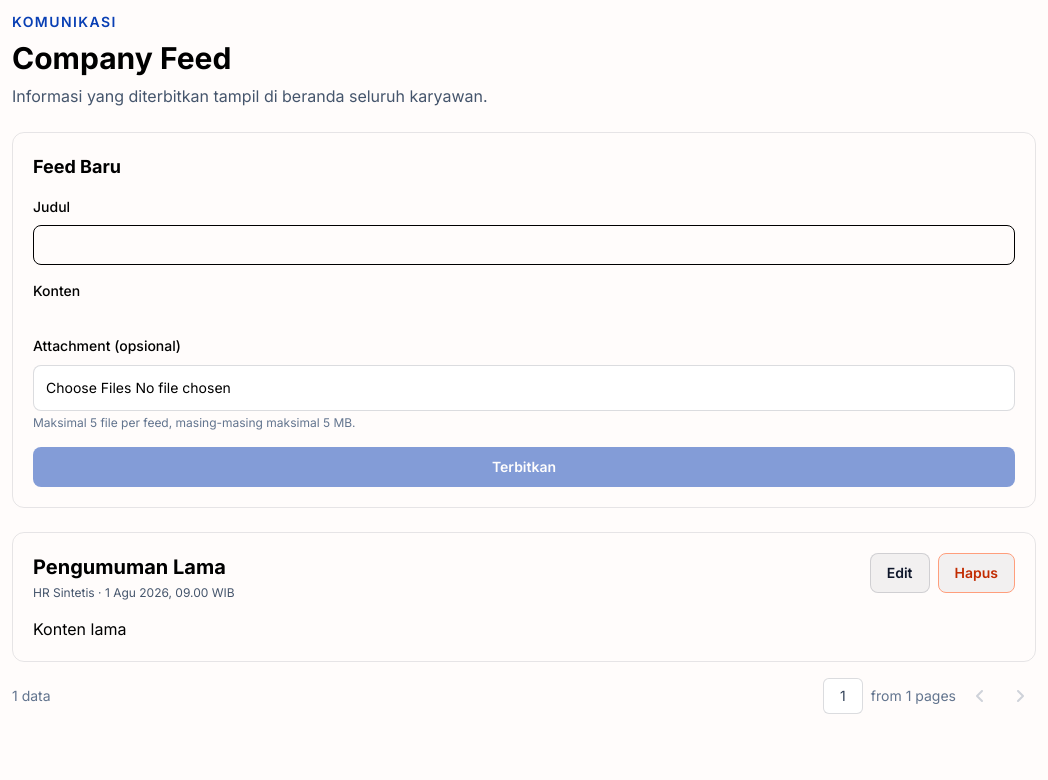
CompanyFeedPage › switches the form into edit mode, prefilled, and submits an update
The image size is (1048, 780).
Expected: the heading "Feed Baru" is shown, 33,153 -> 121,181
Click the button "Edit" at (900, 573), box 870,553 -> 930,593
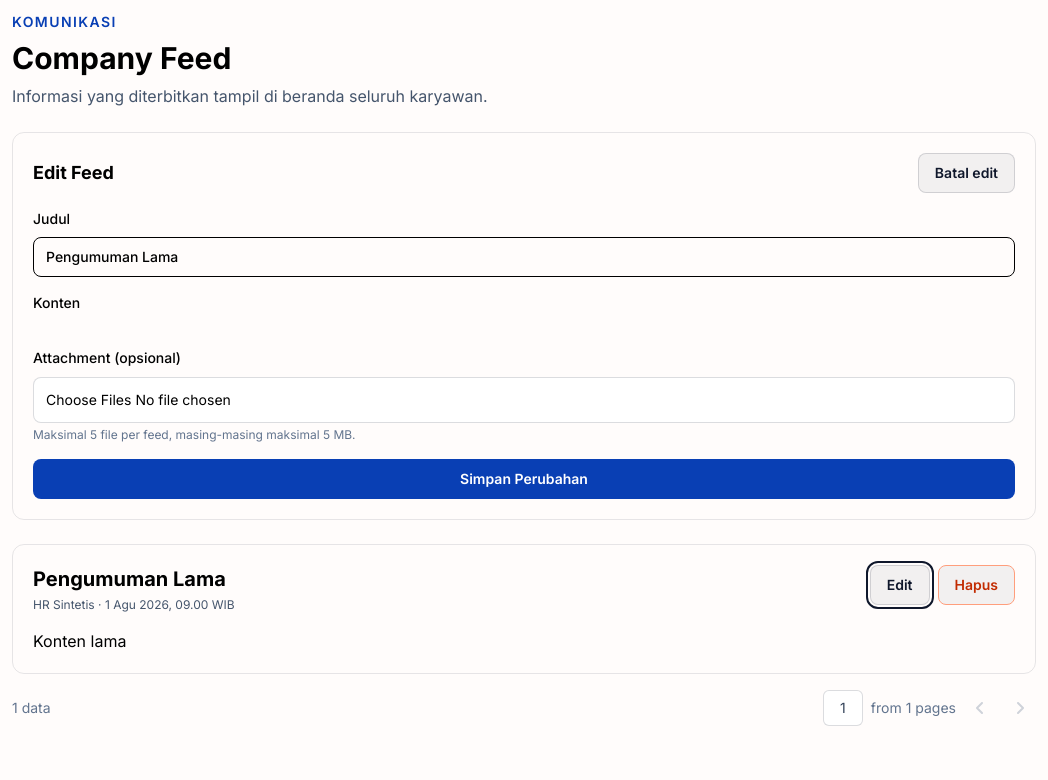
Now the heading "Edit Feed" is shown, box 33,159 -> 114,187
Now the field labelled "Judul" holds "Pengumuman Lama"
Now the button "Simpan Perubahan" is shown, box 33,459 -> 1015,499
Replace the text in the field labelled "Judul" with "Pengumuman Baru" at (524, 257), box 33,237 -> 1015,277
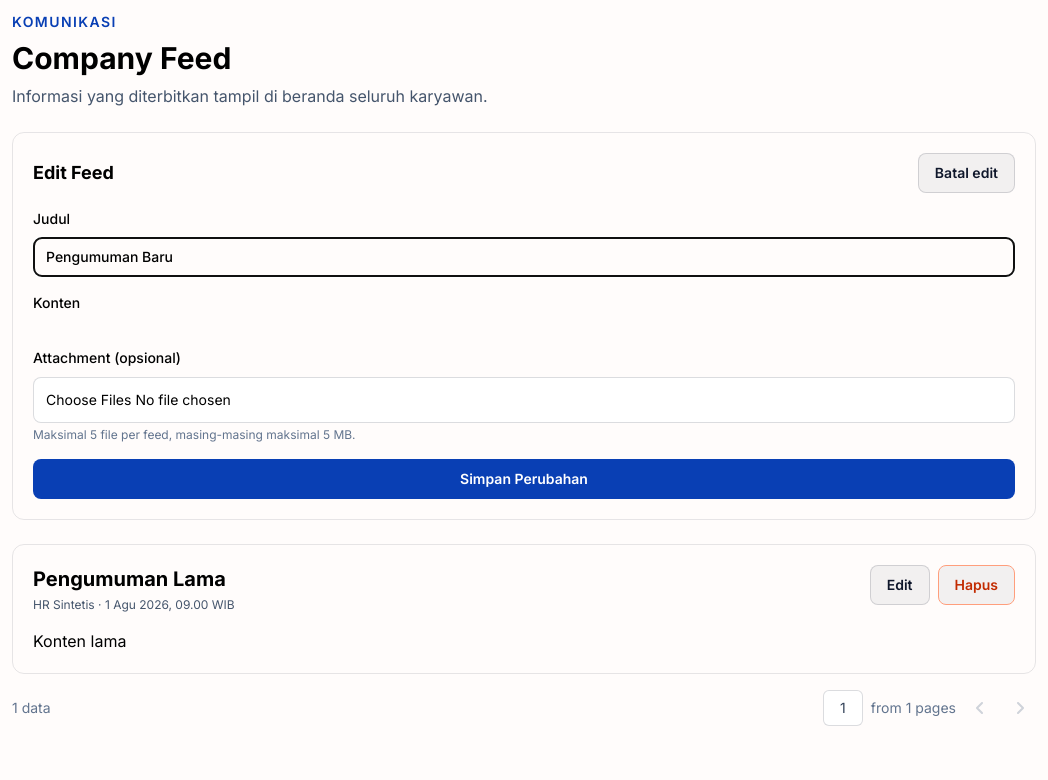
Click the button "Simpan Perubahan" at (524, 479), box 33,459 -> 1015,499
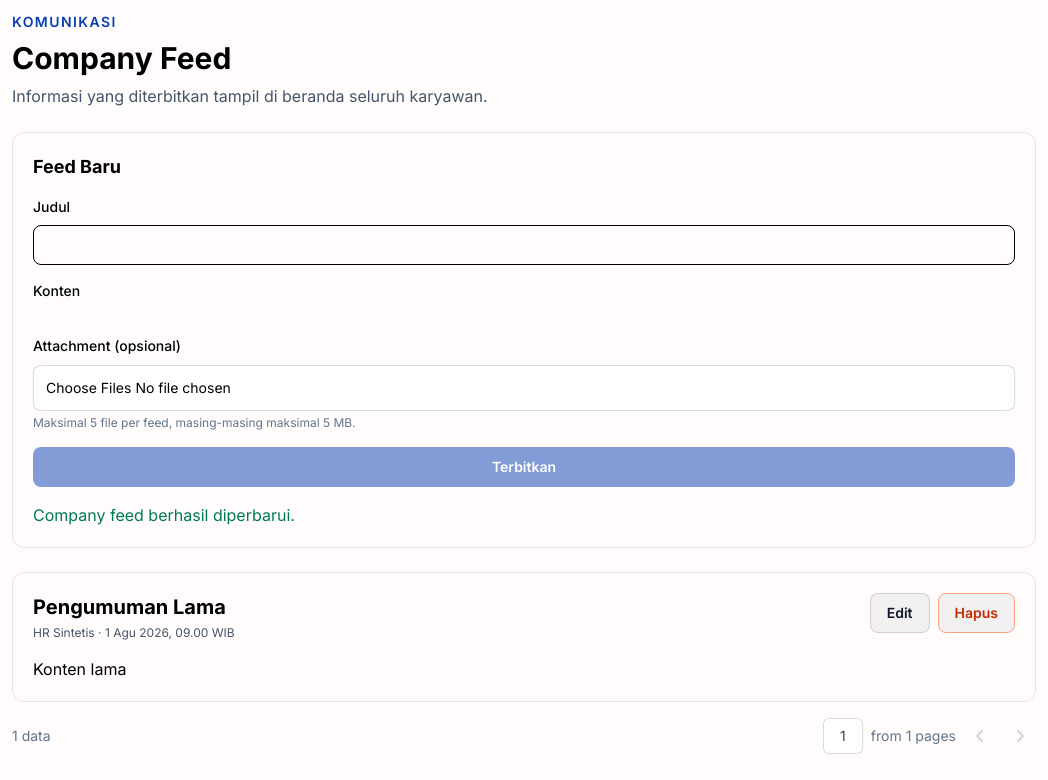
Now the text "Company feed berhasil diperbarui." is shown, box 33,505 -> 295,525
Now the heading "Feed Baru" is shown, box 33,153 -> 121,181
